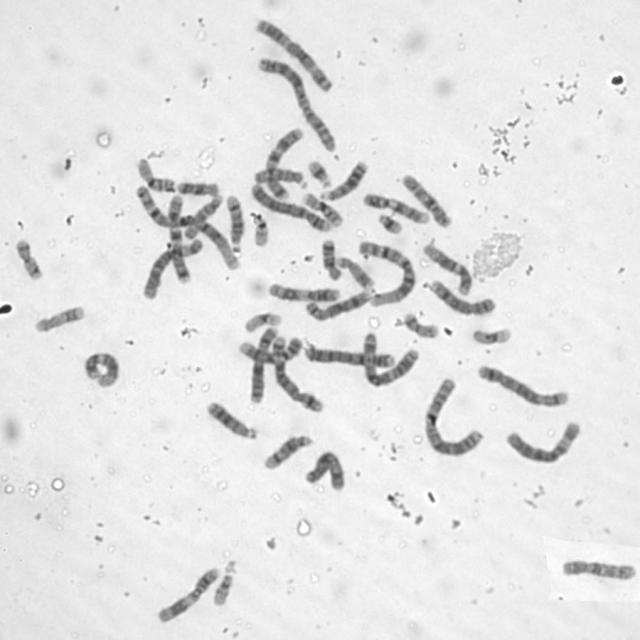A1: (131, 181, 243, 272), (355, 237, 419, 307)
A2: (254, 52, 338, 154), (421, 374, 486, 458)
A3: (251, 14, 334, 92), (358, 327, 421, 388)
B4: (247, 179, 334, 233), (299, 341, 396, 369)
B5: (269, 332, 326, 416), (474, 362, 571, 408)
C10: (398, 170, 452, 228), (558, 554, 640, 581)
C11: (153, 563, 222, 625), (265, 278, 342, 303)
C12: (420, 239, 474, 296), (80, 350, 120, 388)
C6: (138, 234, 204, 300), (502, 417, 584, 466)
C7: (260, 122, 304, 200), (164, 190, 193, 286)
C8: (424, 275, 496, 316), (302, 285, 373, 322)
C9: (360, 189, 431, 225), (233, 333, 306, 366)
D13: (203, 396, 261, 441), (317, 156, 369, 202)
D14: (260, 430, 315, 471), (222, 190, 245, 254)
D15: (180, 190, 226, 241), (251, 164, 310, 189)
E16: (133, 154, 177, 193), (300, 190, 344, 228)
E17: (30, 300, 87, 334), (333, 253, 377, 291)
E18: (319, 235, 344, 281), (174, 177, 220, 197)
F19: (241, 308, 284, 334), (468, 324, 514, 346)
F20: (12, 234, 46, 282), (400, 308, 441, 339)
G21: (304, 155, 334, 189), (373, 208, 404, 236)
G22: (210, 558, 240, 608), (248, 209, 270, 248)
X: (248, 322, 280, 406), (300, 446, 347, 493)
